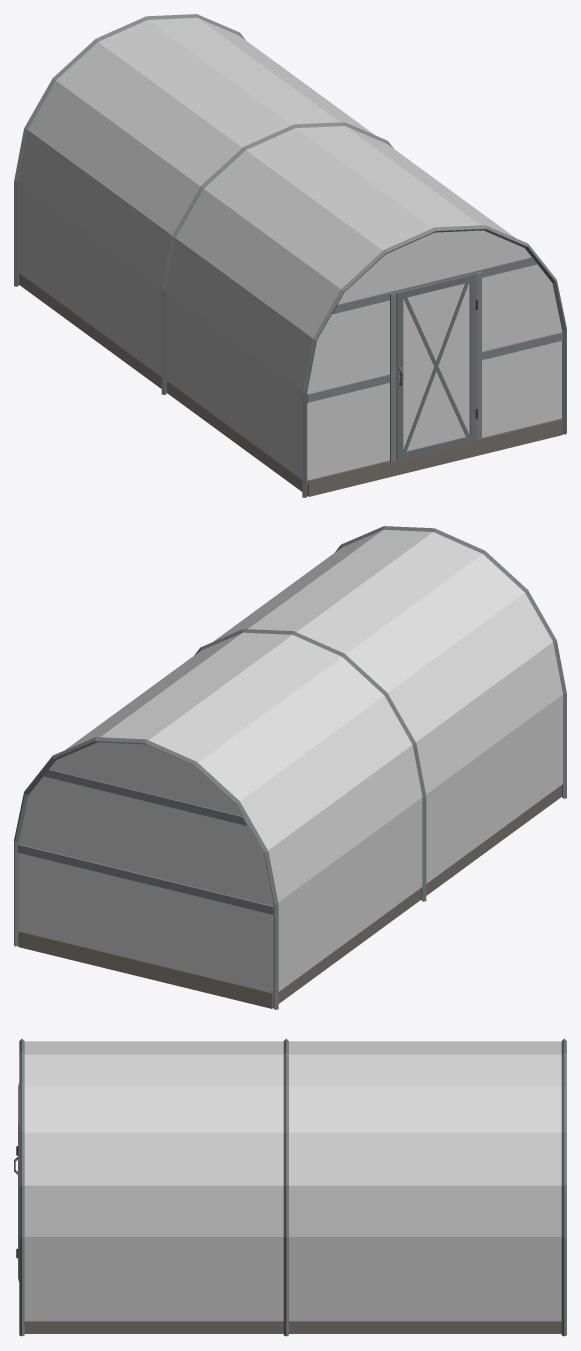
File: SM_Bldg_Farm_GreenHouse_01.fbx
3 views of the same model, one above another, from view 1: azimuth 30°, elevation 25°; view 2: azimuth 150°, elevation 25°; view 3: azimuth 270°, elevation 25° (orthographic). The views are drawn at different scales.
Visible parts, largest first — view 1: SM_Bldg_Farm_GreenHouse_01_Plastic, SM_Bldg_Farm_GreenHouse_01, SM_Bldg_Farm_GreenHouse_01_Door; view 2: SM_Bldg_Farm_GreenHouse_01_Plastic, SM_Bldg_Farm_GreenHouse_01; view 3: SM_Bldg_Farm_GreenHouse_01_Plastic, SM_Bldg_Farm_GreenHouse_01.
Boxes of the visible parts, x1=… form: SM_Bldg_Farm_GreenHouse_01_Plastic: x1=18, y1=17, x2=561, y2=484; SM_Bldg_Farm_GreenHouse_01: x1=14, y1=14, x2=566, y2=497; SM_Bldg_Farm_GreenHouse_01_Door: x1=396, y1=273, x2=476, y2=460; SM_Bldg_Farm_GreenHouse_01_Plastic: x1=19, y1=529, x2=562, y2=992; SM_Bldg_Farm_GreenHouse_01: x1=14, y1=526, x2=566, y2=1009; SM_Bldg_Farm_GreenHouse_01_Plastic: x1=24, y1=1041, x2=561, y2=1321; SM_Bldg_Farm_GreenHouse_01: x1=16, y1=1038, x2=566, y2=1336.
Bounding box in the file's own units: 4.24 × 3.64 × 8.16.
